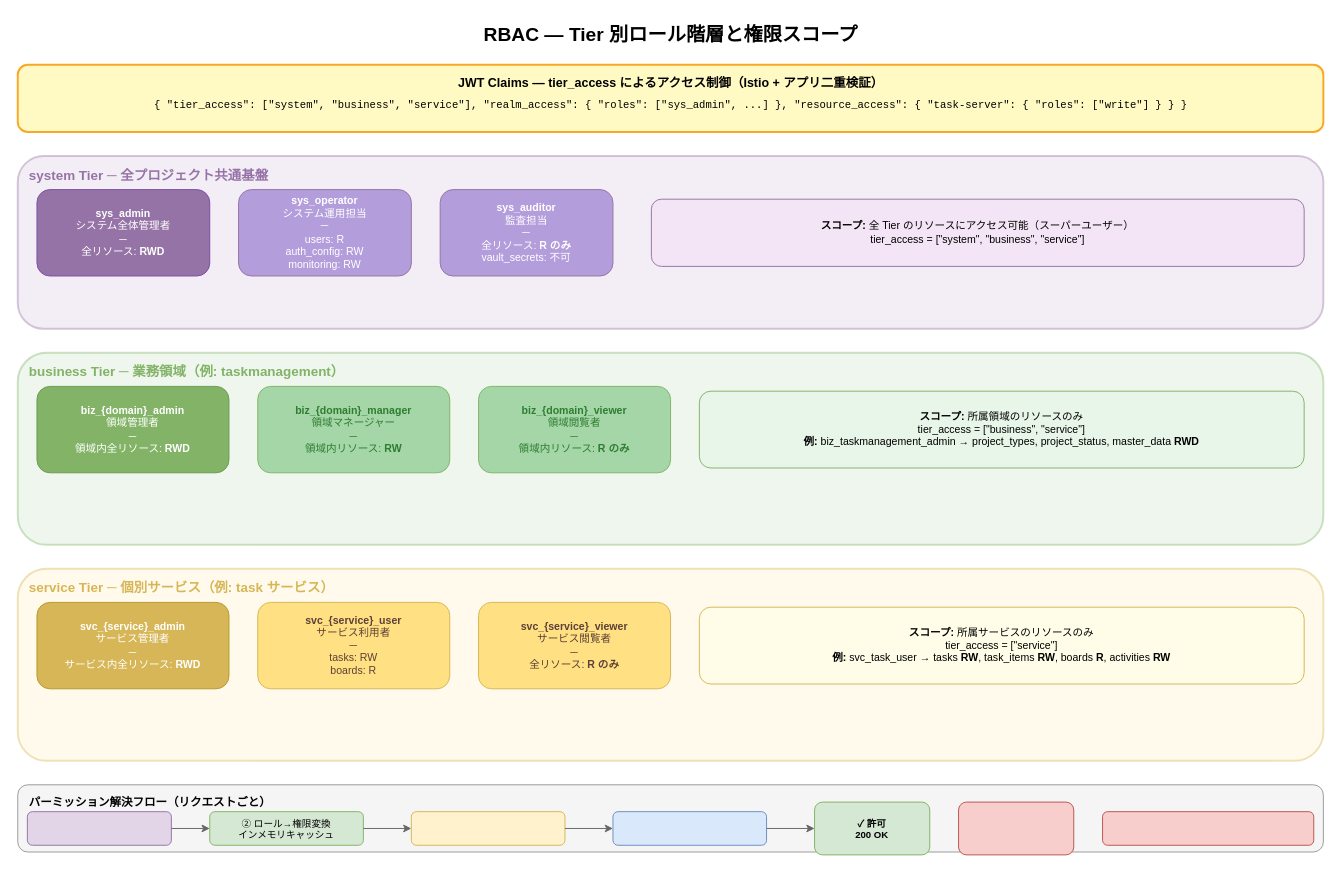
Image size: 1340x872. Some labels were removed from this diagram. The shapes that lost their labels are listed below. From the top down, each one's centre as x and y in pixels, then its label:
the point at 98,828: ① JWT取得 realm_access.roles
the point at 487,828: ③ tier_access検証 Istio + ミドルウェア
the point at 689,828: ④ permission+resource チェック
the point at 1016,828: ✗ 拒否 403 Forbidden
the point at 1208,828: deny by default：明示的に許可されていないパーミッションはすべて拒否
